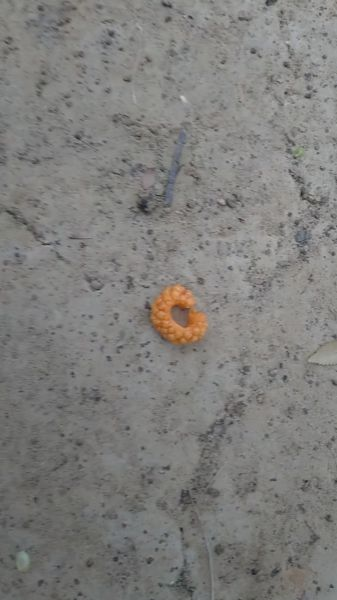eggs: (142, 281, 216, 351)
